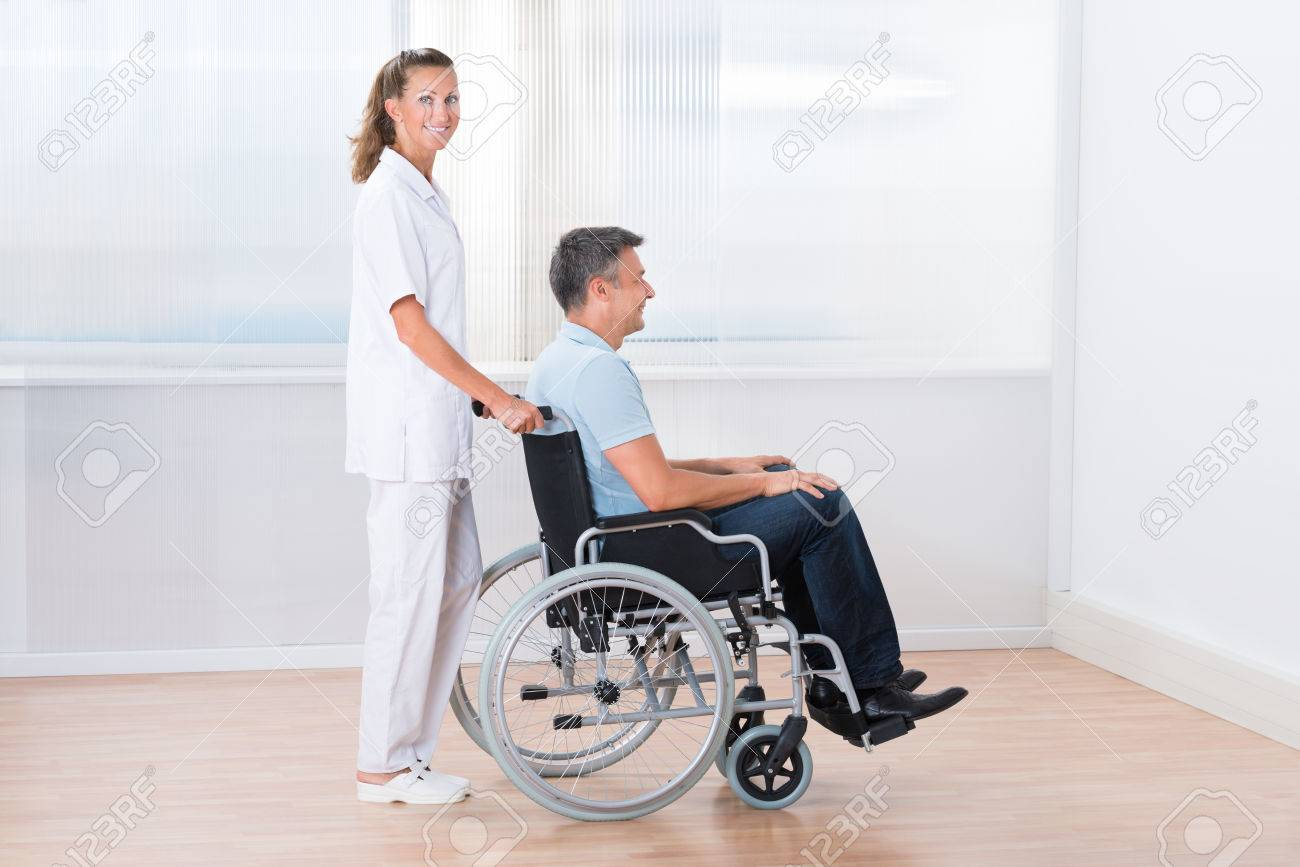wheelchair: (454, 226, 965, 822)
